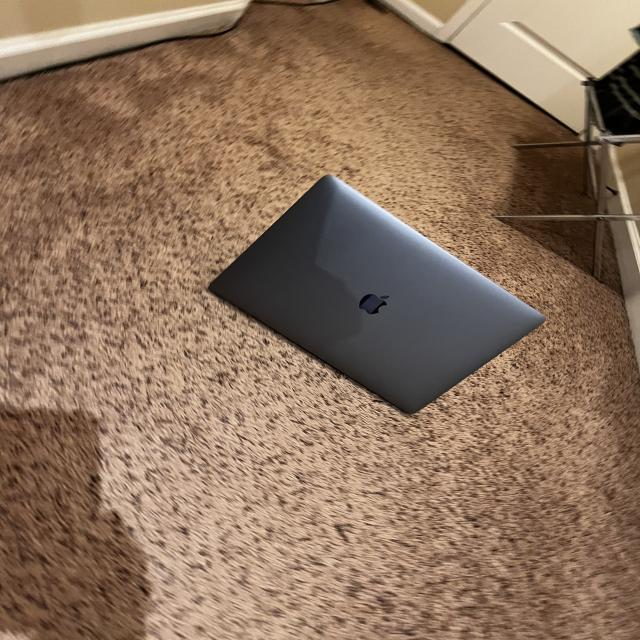laptop: (206, 172, 546, 414)
